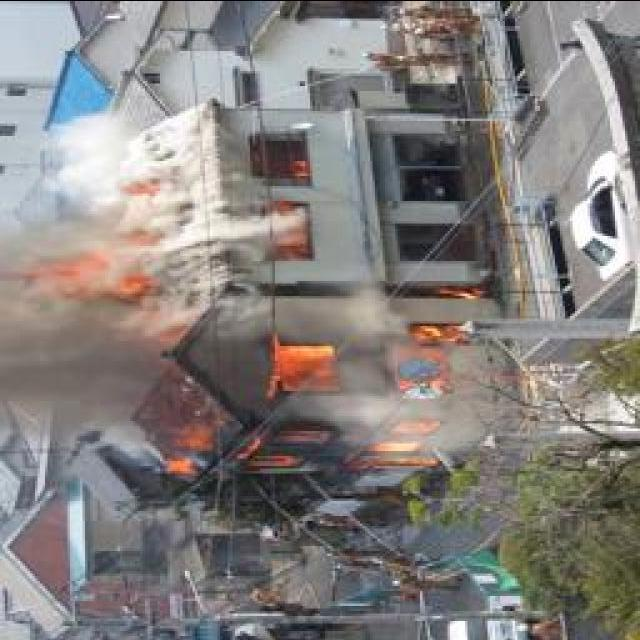Fire: (144, 279, 494, 477), (39, 196, 141, 296)
